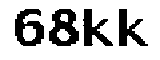6: (7, 7, 46, 48)
8: (45, 6, 81, 52)
k: (115, 7, 152, 57), (82, 8, 114, 53)
